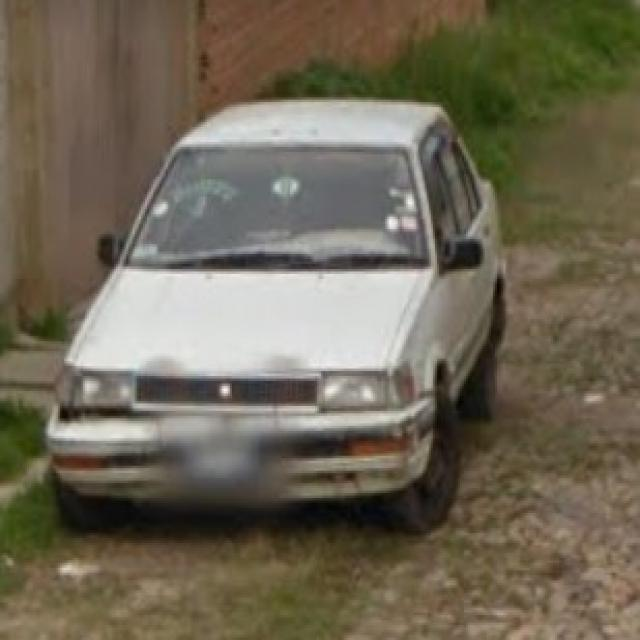cars: (49, 86, 505, 536)
